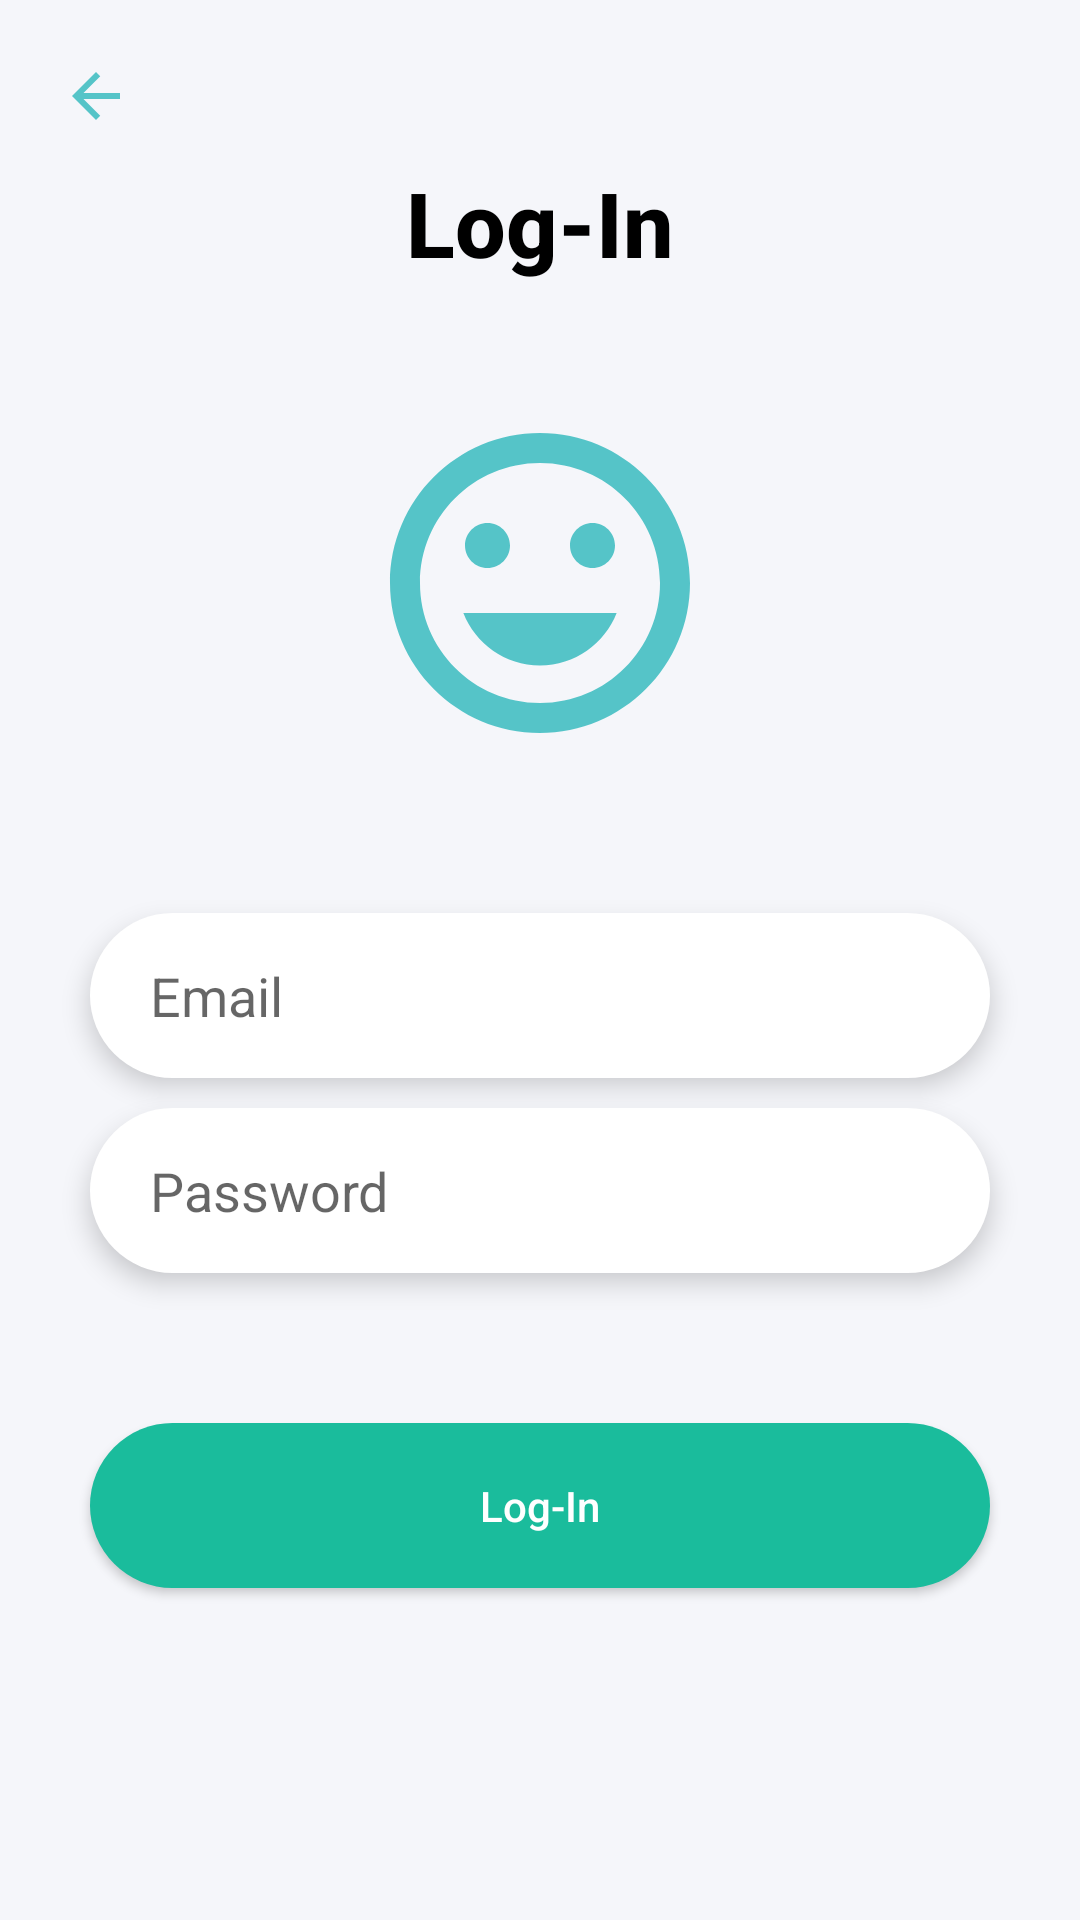

Where icons sit on this 1080w x 1920h app screen, as box=[x1, y1, x2, y2]:
A happy face: box=[390, 433, 690, 733]
Back arrow image: box=[72, 72, 120, 120]
